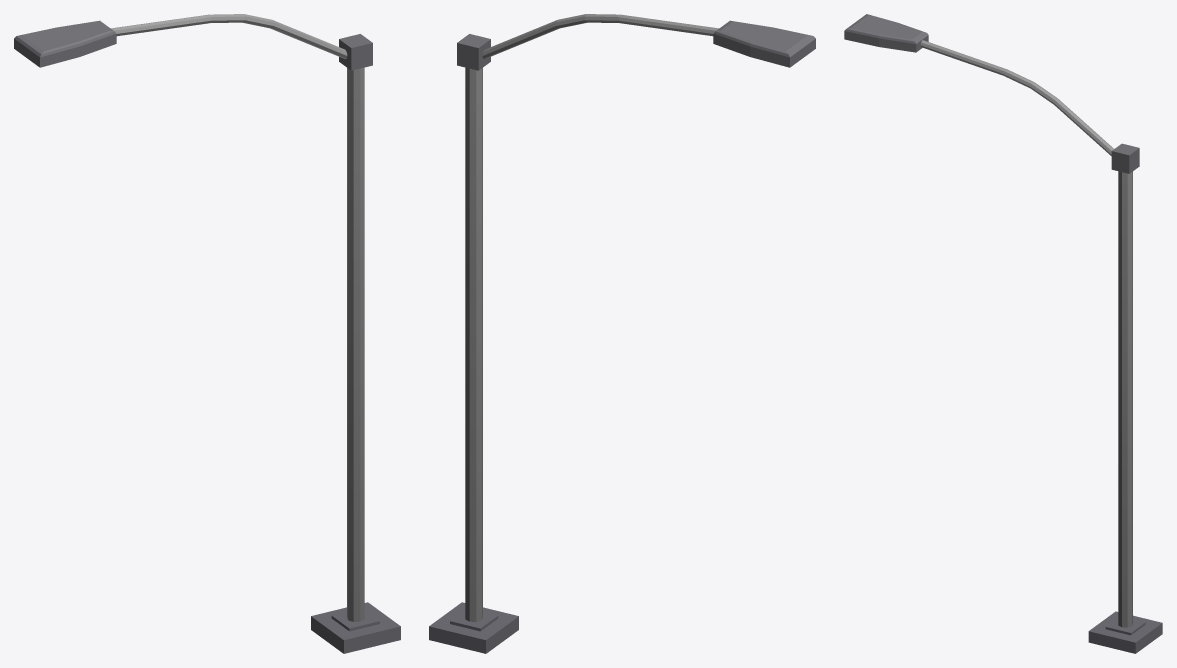
Rendered from Light_01.fbx.
The picture shows the model from 3 angles, left to right: view 1: azimuth 30°, elevation 25°; view 2: azimuth 150°, elevation 25°; view 3: azimuth 330°, elevation 25°; orthographic projection. The views are drawn at different scales.
Visible parts, largest first — view 1: Light_01; view 2: Light_01; view 3: Light_01.
Part boxes in pixels (x1,y1,x2,y2): Light_01: [14, 14, 400, 653]; Light_01: [429, 14, 815, 653]; Light_01: [844, 14, 1162, 653].
Bounding box in the file's own units: 260 × 467 × 41.56.
